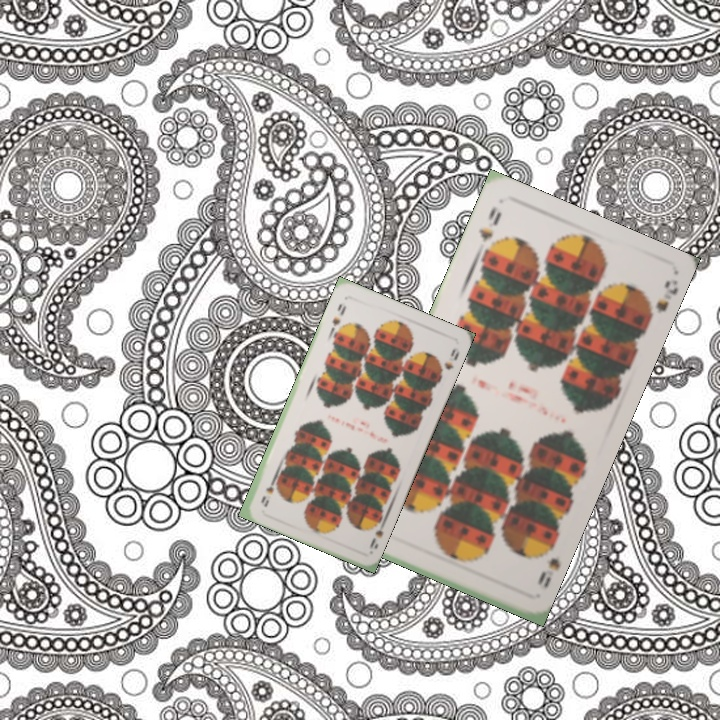S9: (475, 202, 505, 246), (533, 539, 558, 587), (365, 515, 389, 555), (328, 299, 349, 335)
